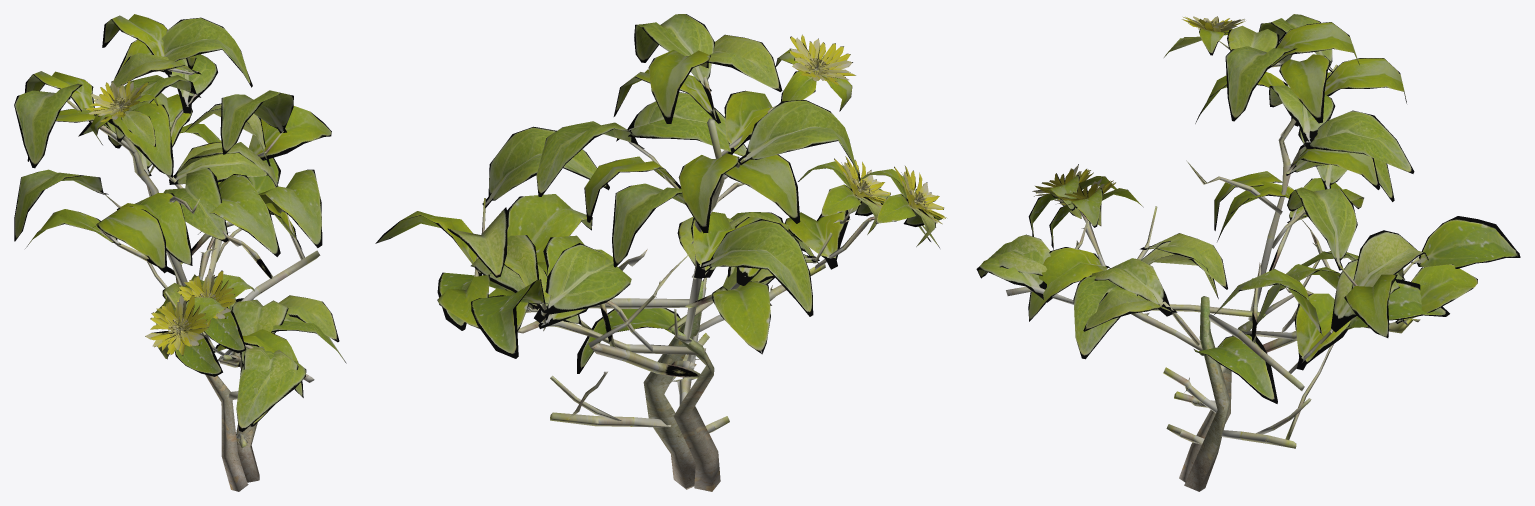
3 views of the same model, side by side, from view 1: azimuth 30°, elevation 25°; view 2: azimuth 150°, elevation 25°; view 3: azimuth 270°, elevation 25° (orthographic). The views are drawn at different scales.
Visible parts, largest first — view 1: didelta_spinosa_small_LOD0; view 2: didelta_spinosa_small_LOD0; view 3: didelta_spinosa_small_LOD0.
Boxes of the visible parts, x1,y1,x2,y2 form: didelta_spinosa_small_LOD0: [14, 14, 346, 491]; didelta_spinosa_small_LOD0: [375, 14, 946, 491]; didelta_spinosa_small_LOD0: [976, 14, 1520, 491].
Size of the model in its own units: 0.8161 by 0.937 by 1.05.
1 material, 1 textured.
